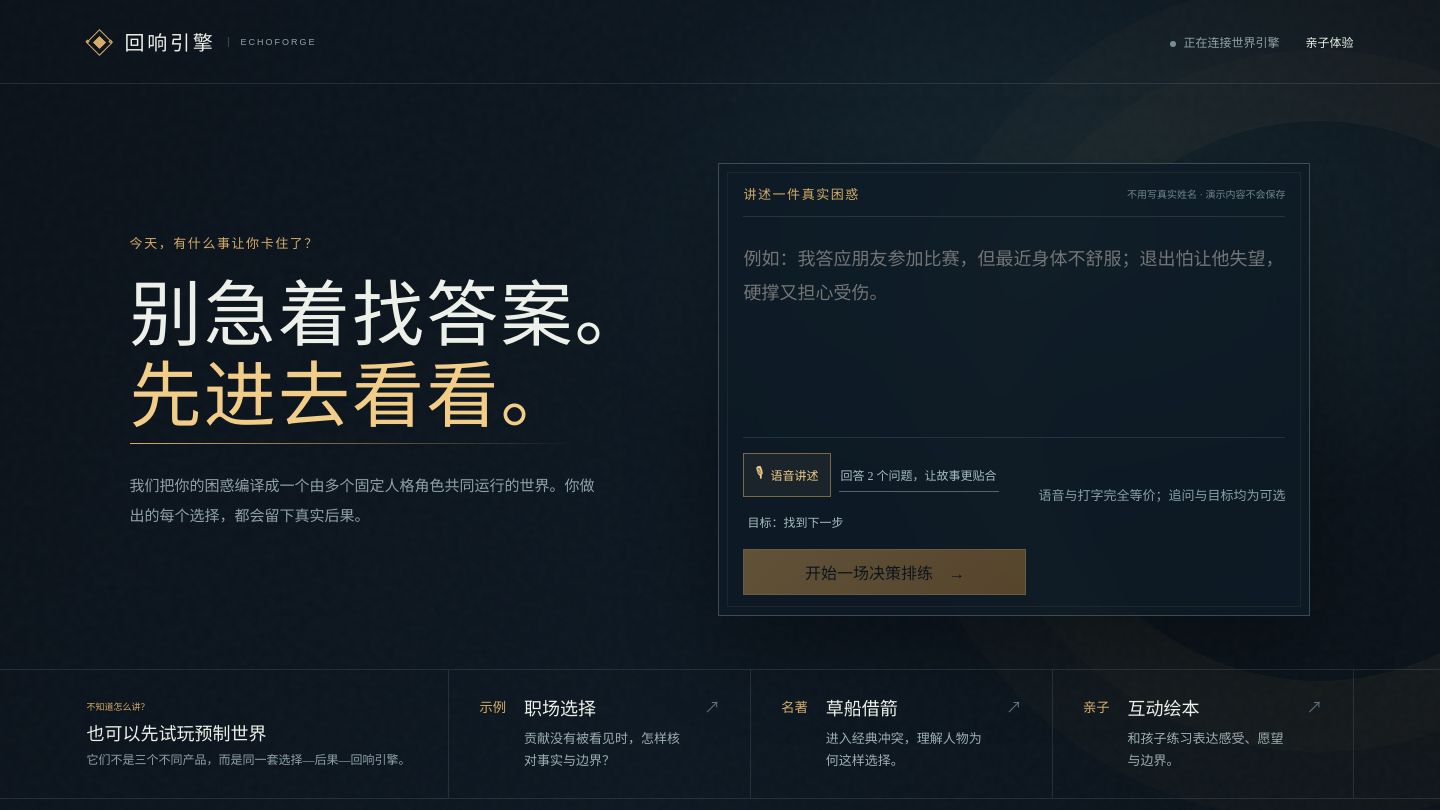
dynamic world UI › shows a different compiled world for a decision dilemma
Type "我拿到两个 offer，不知道要不要离职转行" into the text box named "描述你想探索的事情" at (1014, 326), box x1=743 y1=216 x2=1285 y2=437
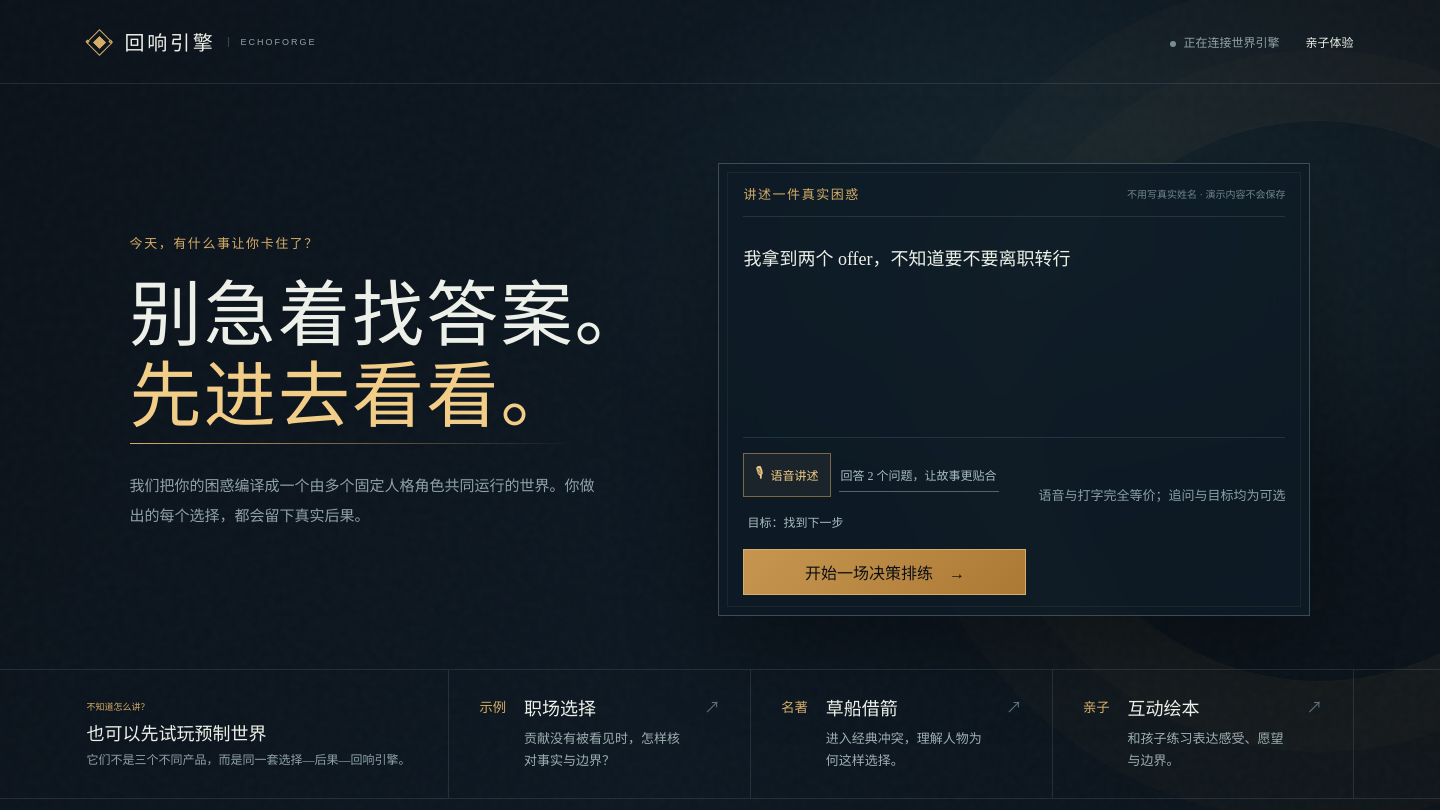
Click the button "开始一场决策排练 →" at (885, 572), box x1=743 y1=550 x2=1026 y2=596
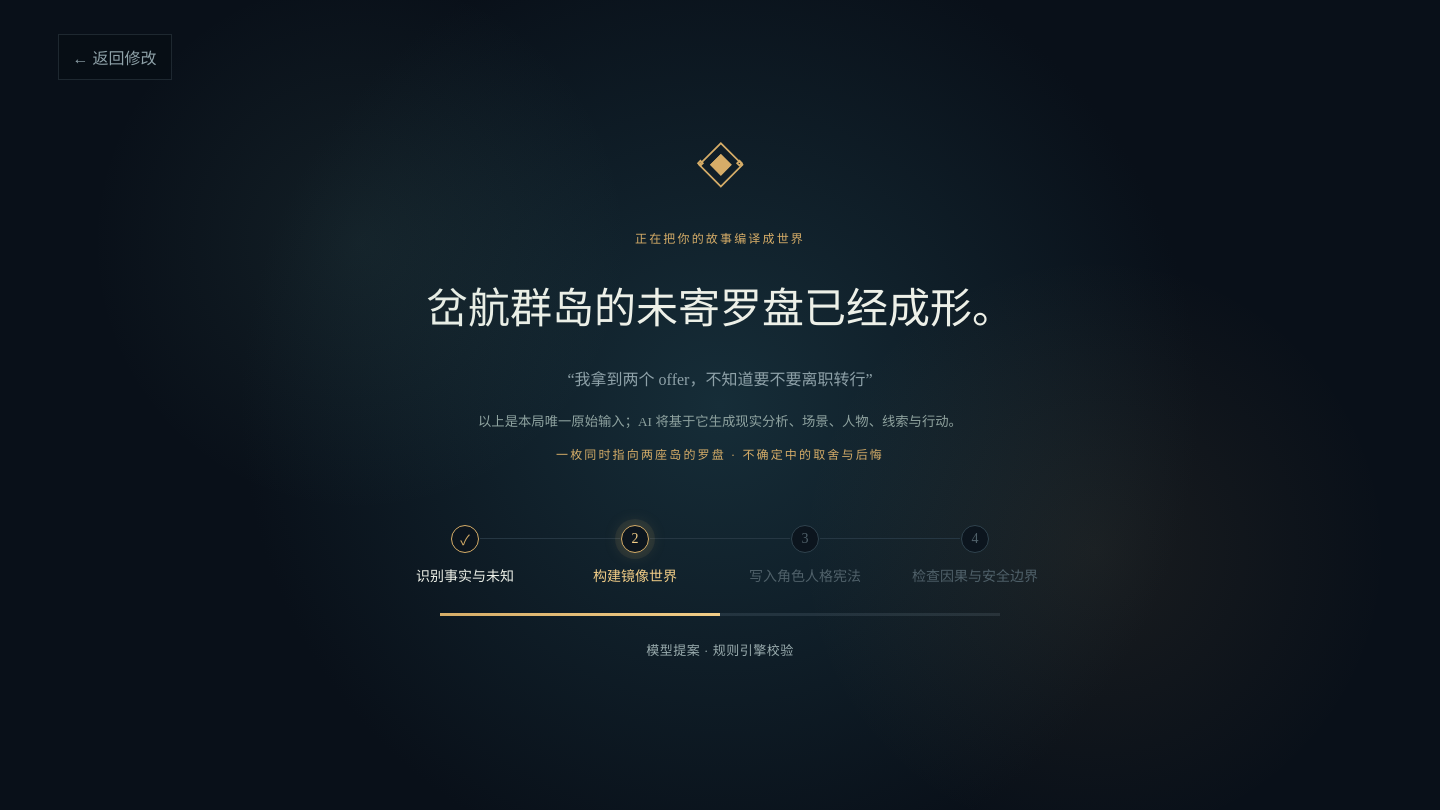
Check: the heading "岔航群岛的未寄罗盘已经成形。" is shown, box x1=426 y1=274 x2=1014 y2=335
